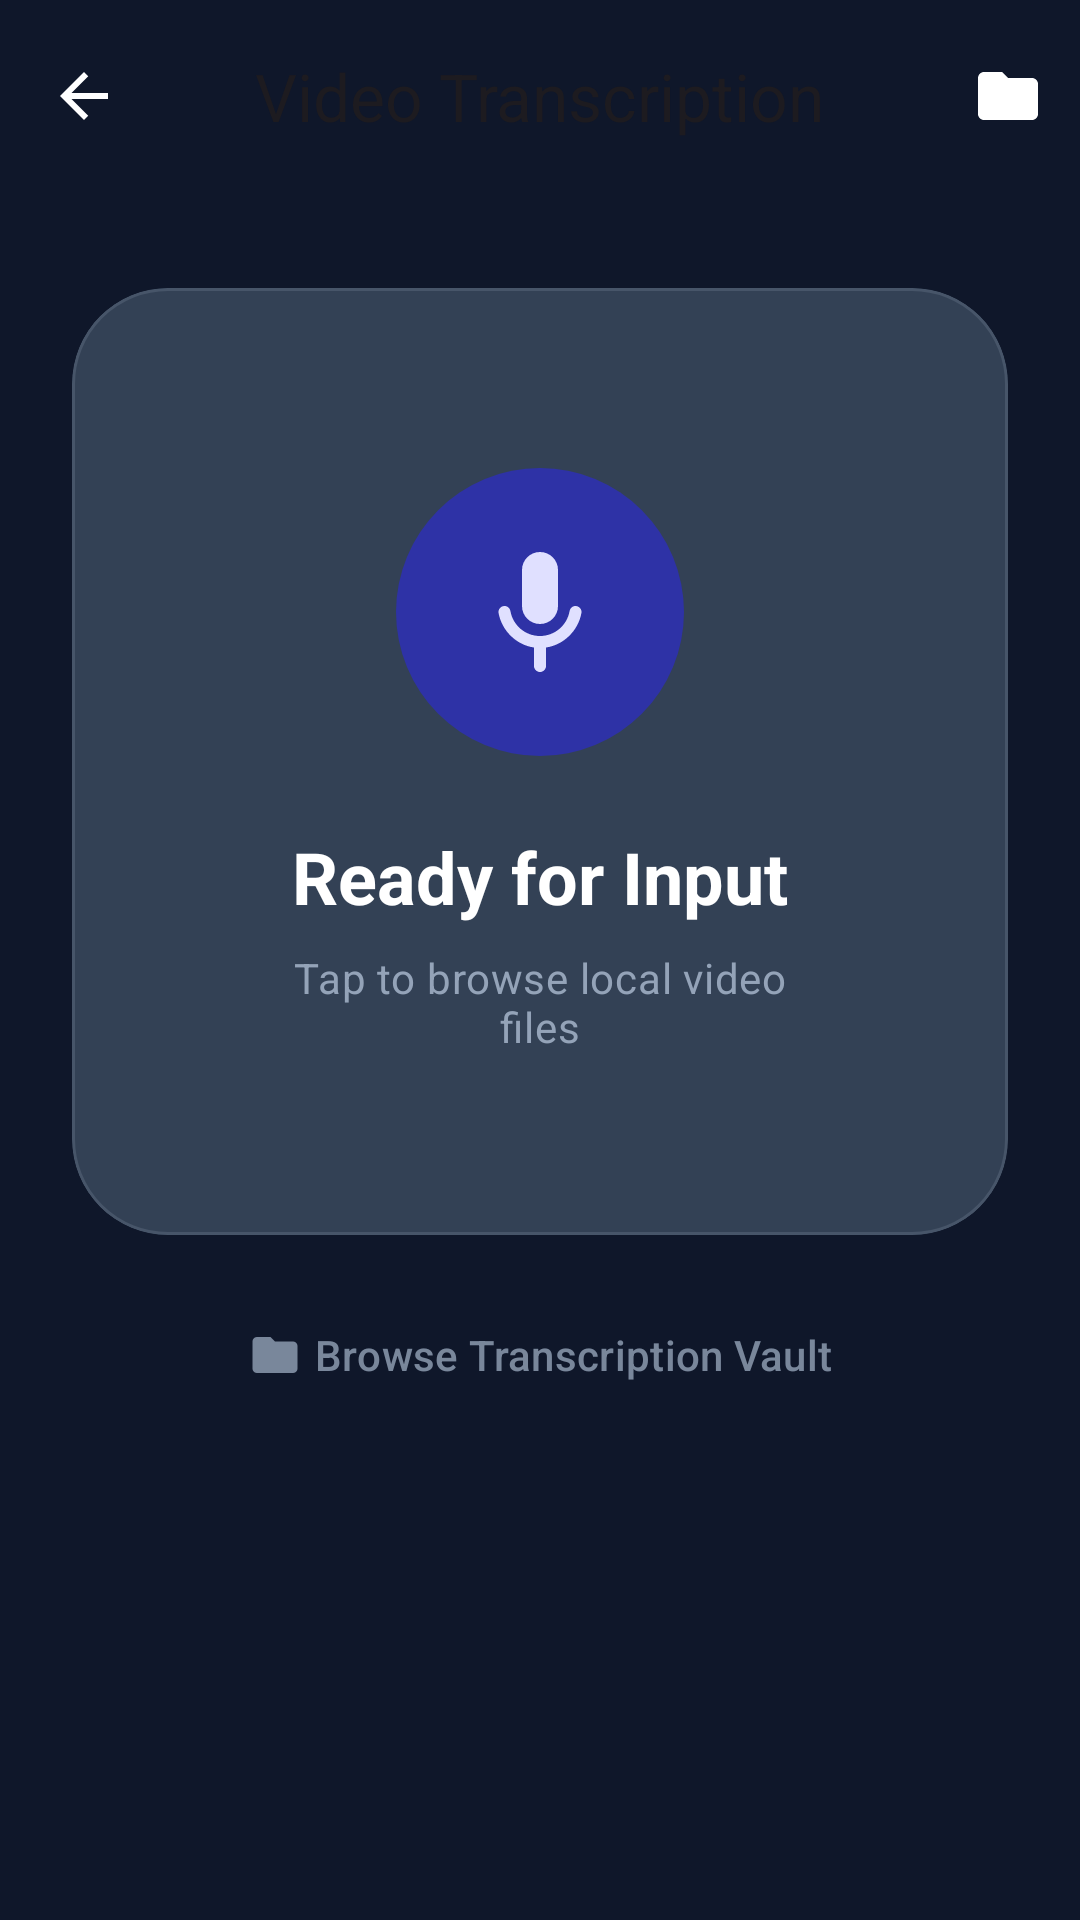

Point at icon controls on the screen. Image size 1080px x 1920px, points as point (x, y).
mic: point (540, 612)
